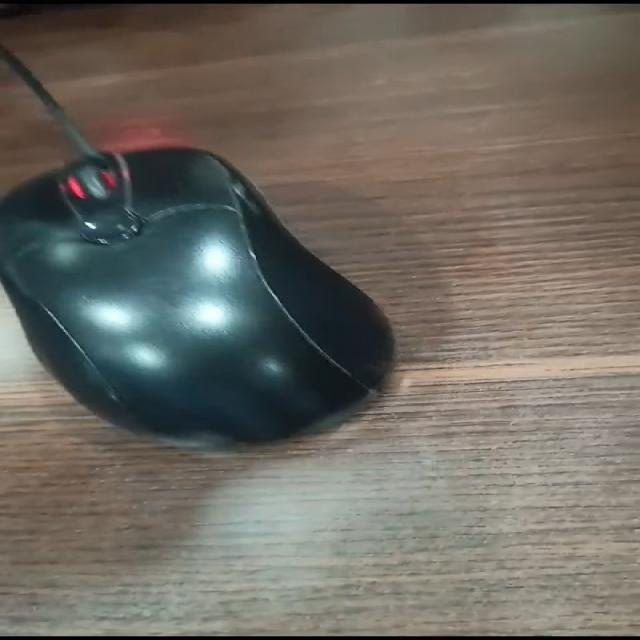Mouse: (6, 109, 439, 488)
